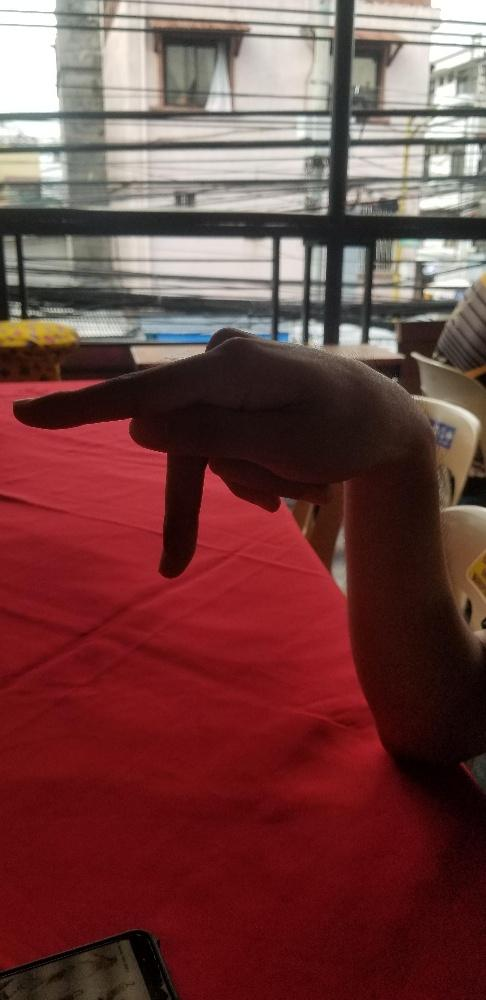p: (6, 325, 410, 583)
